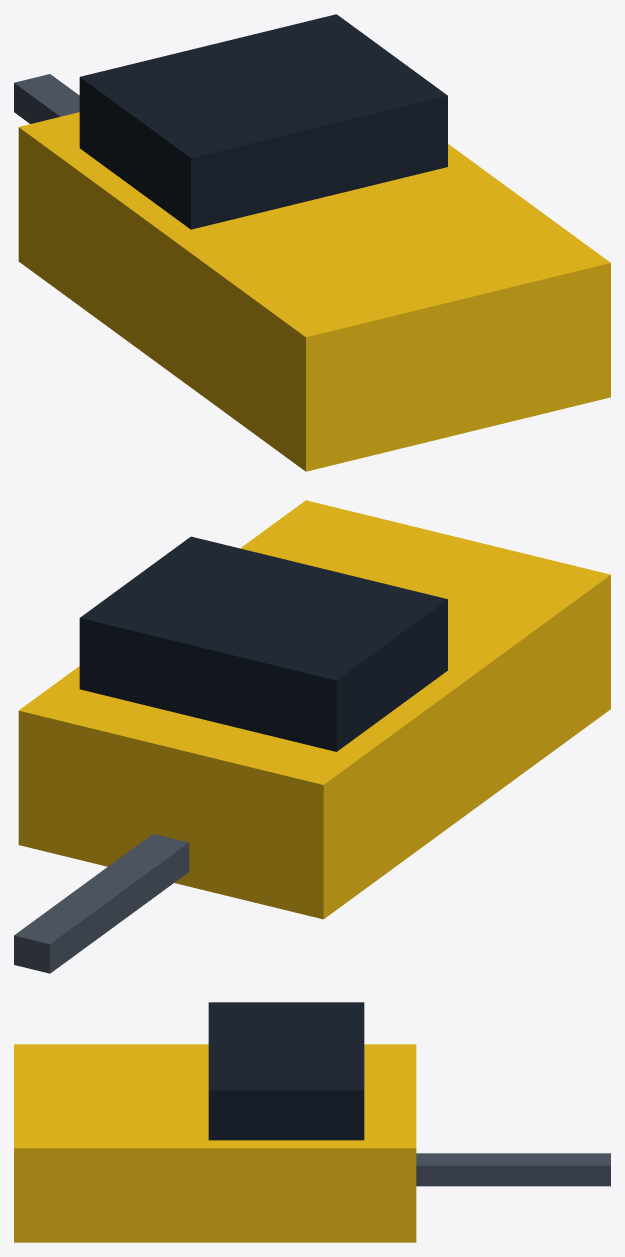
Rendered from pushback_tug.glb.
The picture shows the model from 3 angles, top to bottom: view 1: azimuth 30°, elevation 25°; view 2: azimuth 150°, elevation 25°; view 3: azimuth 270°, elevation 25°; orthographic projection. The views are drawn at different scales.
Visible parts, largest first — view 1: AirlinerMesh; view 2: AirlinerMesh; view 3: AirlinerMesh.
Boxes of the visible parts, bbox=[...] form: AirlinerMesh: bbox=[14, 14, 610, 471]; AirlinerMesh: bbox=[14, 500, 610, 973]; AirlinerMesh: bbox=[14, 1002, 610, 1242].
Size of the model in its own units: 3.8 by 2.45 by 9.2.
1 material, 1 textured.
